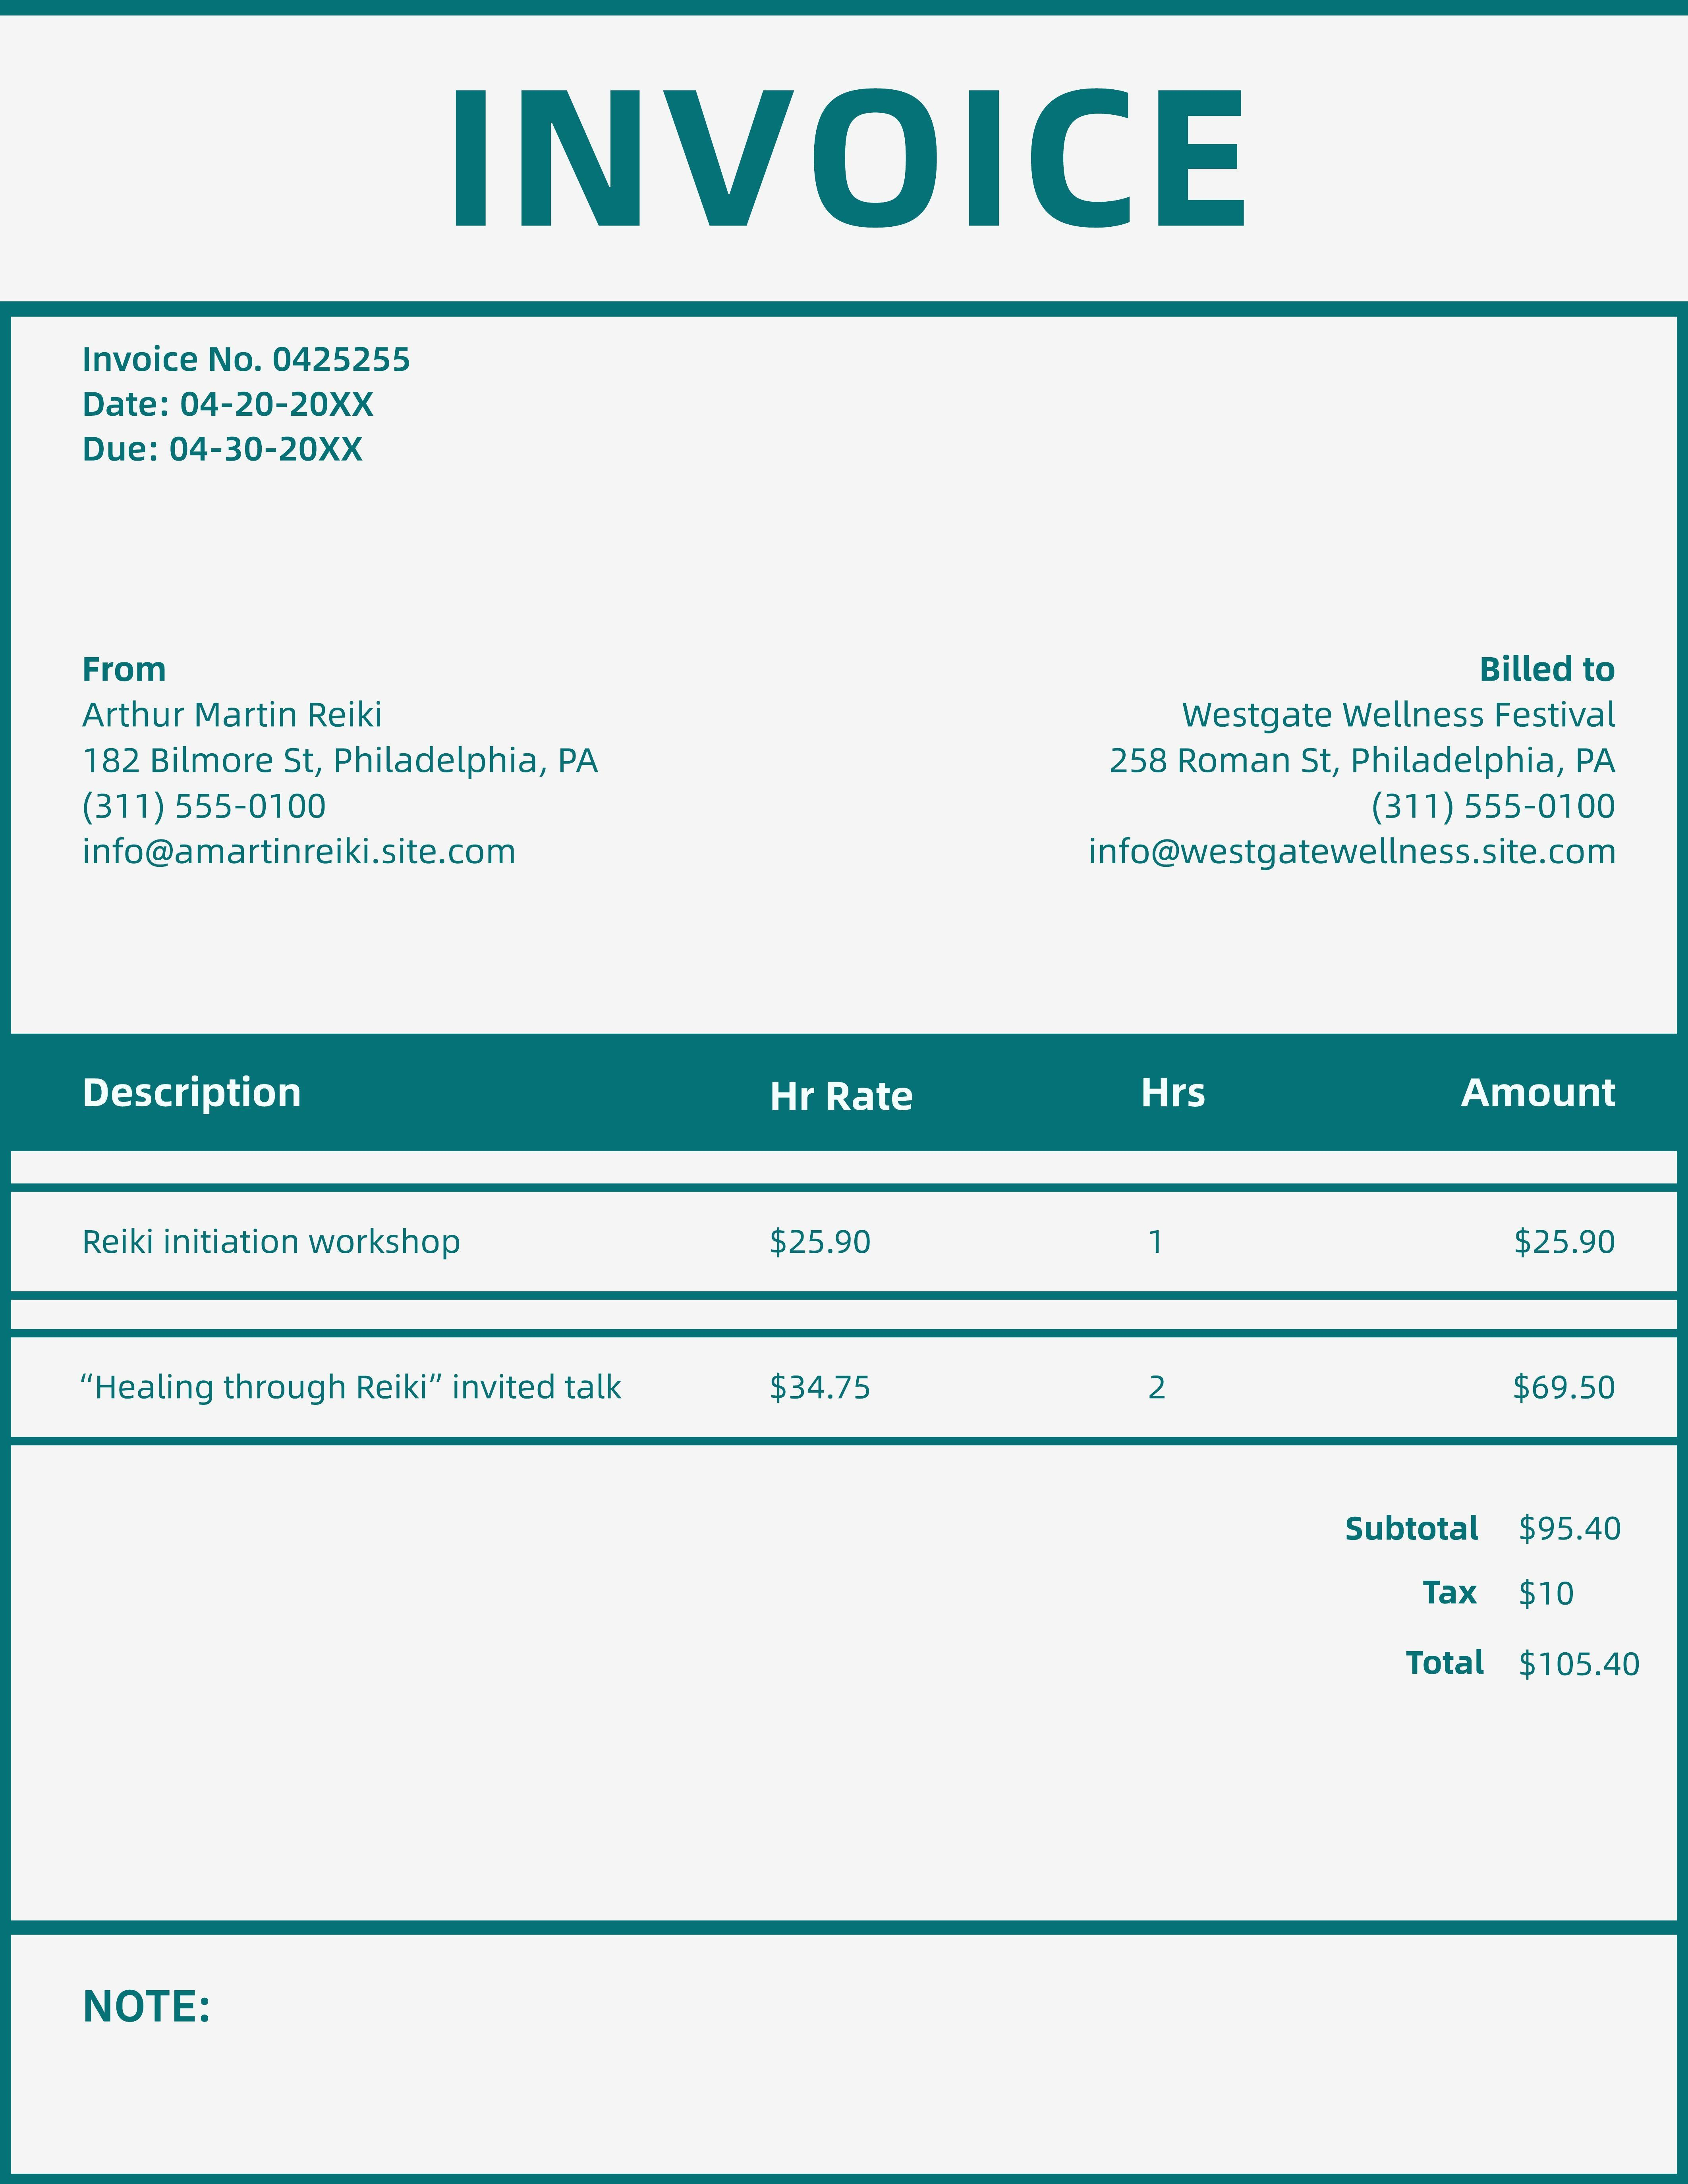ROI: (53, 1059, 1633, 1433), (66, 638, 606, 892), (1079, 650, 1627, 878), (1332, 1499, 1664, 1690), (66, 340, 427, 482)
